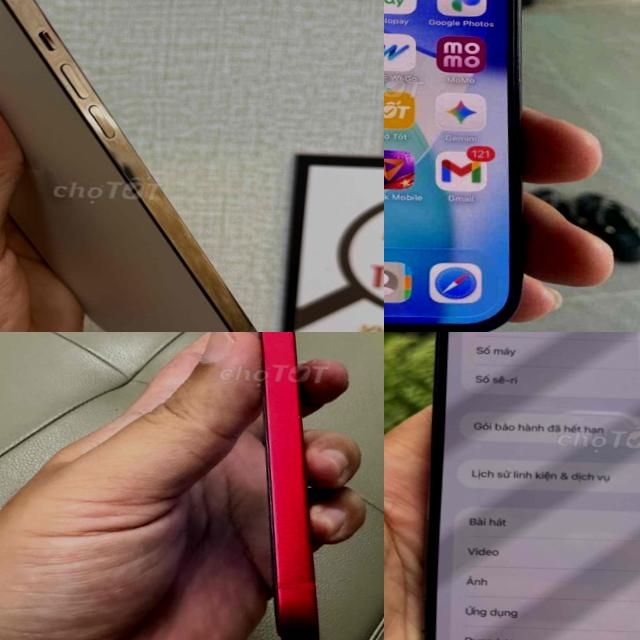scratch: (132, 169, 257, 332)
